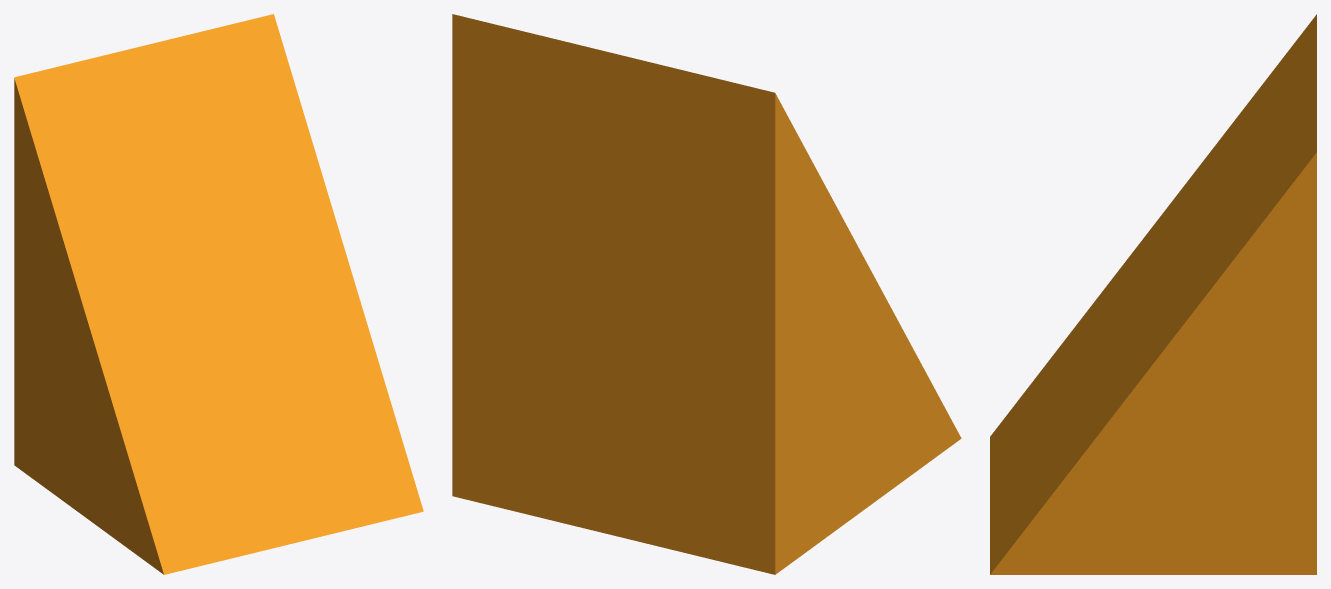
File: SM_Buildings_Ramp_55_1x1_01.fbx
The picture shows the model from 3 angles, left to right: view 1: azimuth 30°, elevation 25°; view 2: azimuth 150°, elevation 25°; view 3: azimuth 270°, elevation 25°; orthographic projection. The views are drawn at different scales.
Visible parts, largest first — view 1: SM_Buildings_Ramp_55_1x1_01; view 2: SM_Buildings_Ramp_55_1x1_01; view 3: SM_Buildings_Ramp_55_1x1_01.
Part boxes in pixels (x1,y1,x2,y2): SM_Buildings_Ramp_55_1x1_01: (14, 14, 423, 574); SM_Buildings_Ramp_55_1x1_01: (452, 14, 961, 574); SM_Buildings_Ramp_55_1x1_01: (990, 14, 1316, 574).
Bounding box in the file's own units: 100 × 143 × 100.
